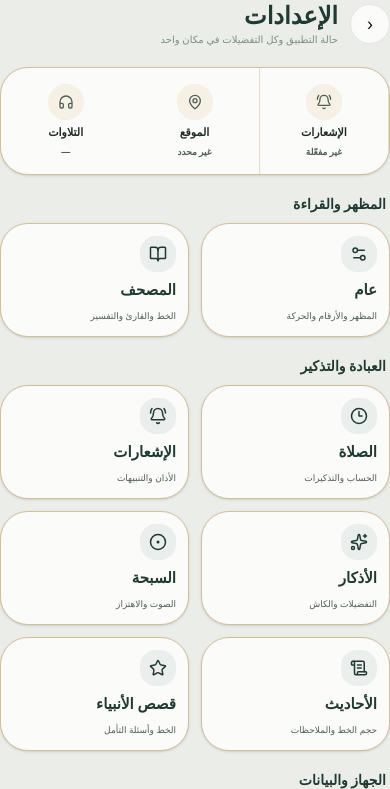
Test: SettingsView smoke coverage › opens the Quran category and exposes the reciter select
Click the button "المصحف الخط والقارئ والتفسير": (94, 280) [0, 223, 189, 337]
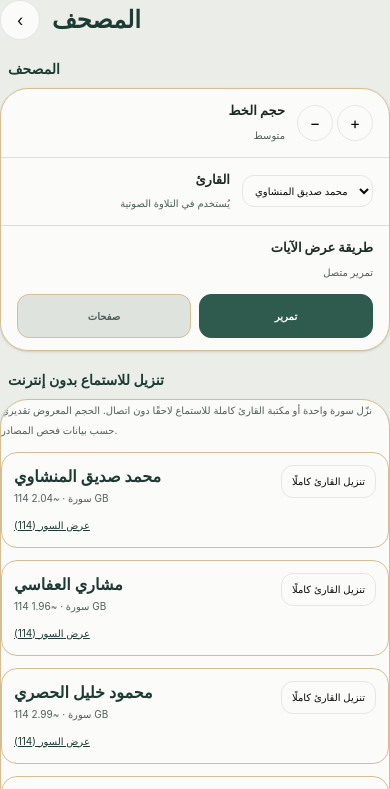
Expected: the text "المصحف" is shown, [52, 4, 141, 36]
